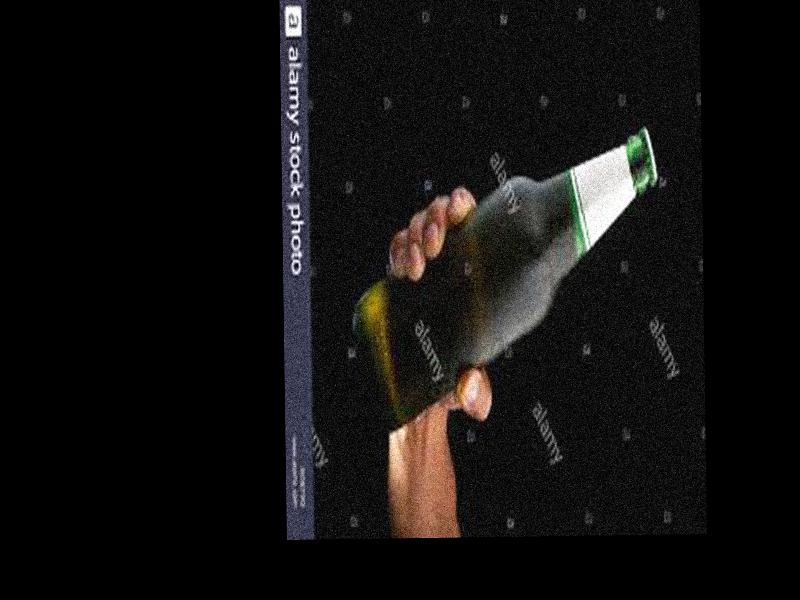Beer: (346, 123, 662, 432)
